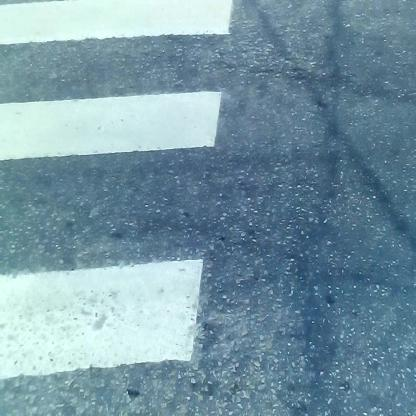crosswalk: (10, 11, 247, 416)
